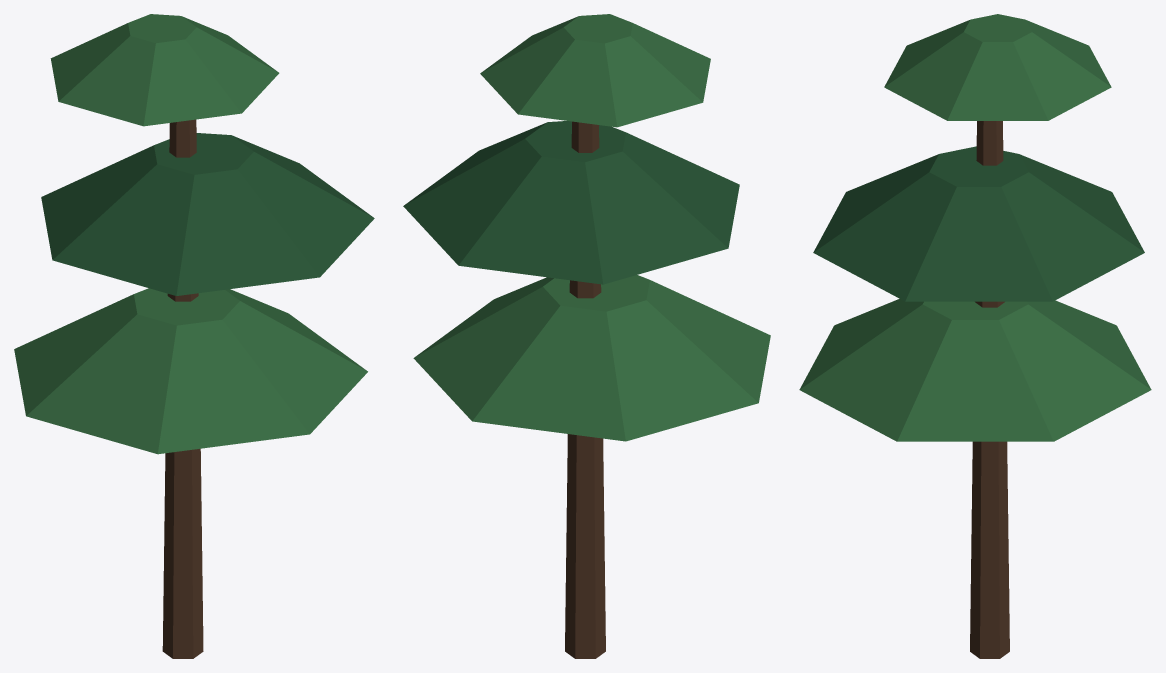
The model's file is Pine2.fbx.
3 renders of one model, left to right at view 1: azimuth 30°, elevation 25°; view 2: azimuth 150°, elevation 25°; view 3: azimuth 270°, elevation 25°, orthographic. The views are drawn at different scales.
Visible parts, largest first — view 1: Pine2_pine, Pine2_pine_dk, Pine2_bark; view 2: Pine2_pine, Pine2_pine_dk, Pine2_bark; view 3: Pine2_pine, Pine2_pine_dk, Pine2_bark.
Boxes of the visible parts, x1,y1,x2,y2 form: Pine2_pine: [14, 14, 367, 454]; Pine2_pine_dk: [41, 133, 374, 295]; Pine2_bark: [162, 119, 203, 658]; Pine2_pine: [413, 14, 770, 441]; Pine2_pine_dk: [403, 121, 739, 284]; Pine2_bark: [565, 121, 605, 658]; Pine2_pine: [799, 14, 1151, 441]; Pine2_pine_dk: [813, 146, 1144, 301]; Pine2_bark: [970, 121, 1009, 658].
Bounding box in the file's own units: 9.76 × 18.6 × 9.67.
